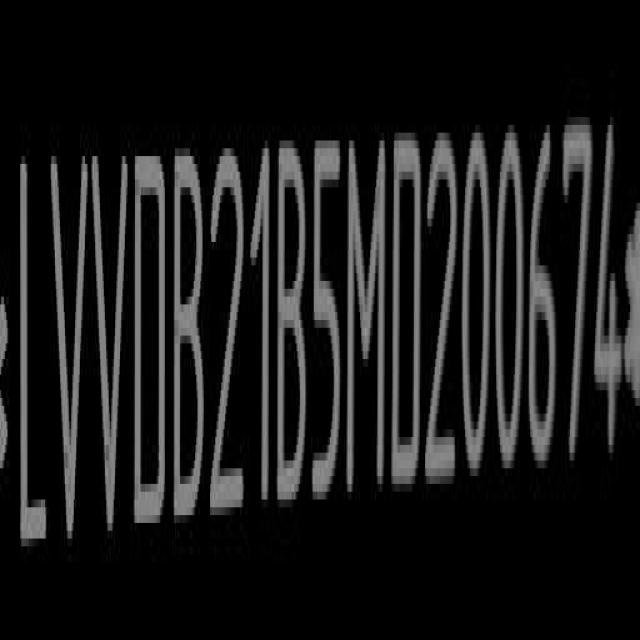0: (460, 130, 491, 490), (496, 128, 526, 481)
1: (252, 140, 276, 526)
2: (210, 145, 247, 528), (428, 129, 460, 498)
4: (596, 107, 624, 469)
5: (312, 137, 343, 513)
6: (528, 122, 560, 482)
7: (564, 114, 592, 482)
B: (174, 144, 210, 539), (278, 138, 310, 519)
D: (132, 145, 168, 545), (392, 128, 426, 504)
L: (17, 142, 49, 568)
M: (346, 132, 387, 506)
V: (48, 147, 88, 561), (92, 144, 131, 556)
